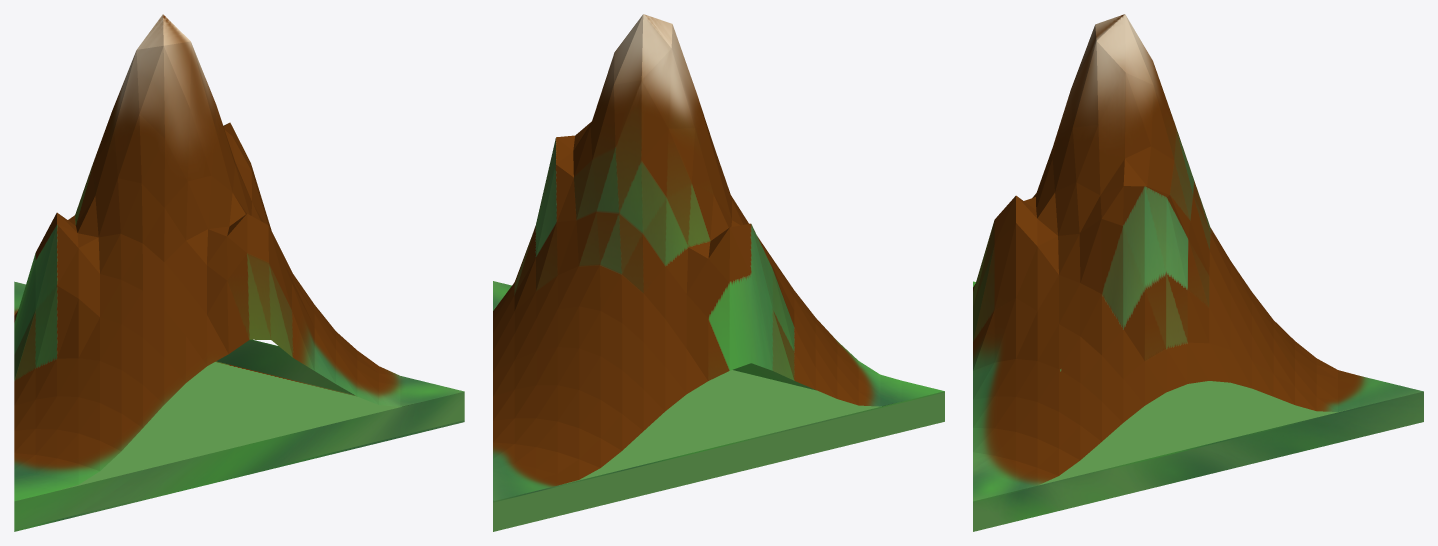
Rendered from mountain.glb.
3 renders of one model, left to right at view 1: azimuth 30°, elevation 25°; view 2: azimuth 150°, elevation 25°; view 3: azimuth 270°, elevation 25°, orthographic.
Parts seen in each view (by area): view 1: Circle; view 2: Circle; view 3: Circle.
Boxes of the visible parts, x1,y1,x2,y2 form: Circle: (14, 14, 464, 531); Circle: (493, 14, 944, 531); Circle: (973, 14, 1423, 531).
Size of the model in its own units: 1.73 by 1.5 by 1.5.
Materials: 1 (1 with a texture image).
